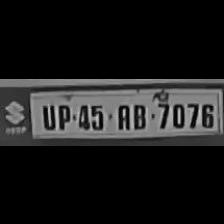0: (168, 98, 186, 128)
4: (74, 100, 90, 130)
5: (89, 100, 106, 130)
6: (196, 100, 214, 126)
7: (151, 97, 169, 128), (187, 98, 201, 128)
A: (113, 100, 131, 130)
B: (129, 98, 149, 130)
P: (55, 100, 73, 128)
U: (38, 100, 56, 130)
